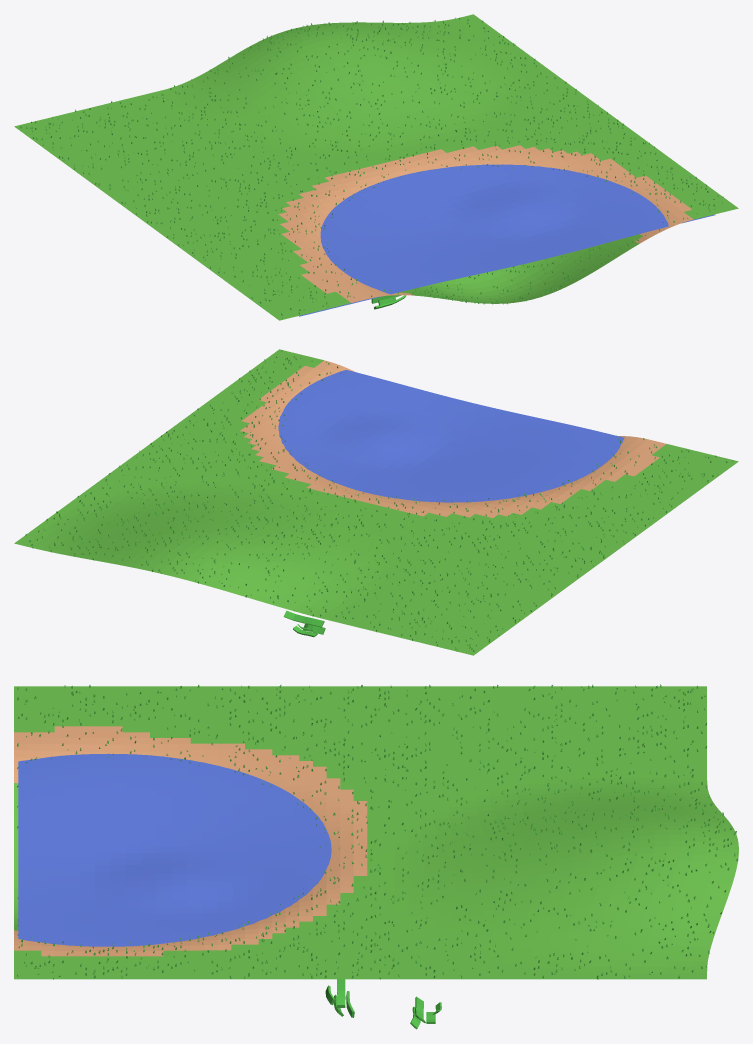
The picture shows the model from 3 angles, top to bottom: view 1: azimuth 30°, elevation 25°; view 2: azimuth 150°, elevation 25°; view 3: azimuth 270°, elevation 25°; orthographic projection. The views are drawn at different scales.
Visible parts, largest first — view 1: Plane, Plane.001; view 2: Plane, Plane.001, Cube.001; view 3: Plane, Plane.001, Cube.
Part boxes in pixels (x1,y1,x2,y2): Plane: (14,14,738,320); Plane.001: (299,164,715,316); Plane: (14,349,738,655); Plane.001: (278,370,624,502); Cube.001: (283,610,325,637); Plane: (14,686,738,979); Plane.001: (18,753,331,946); Cube: (325,979,354,1017).
Size of the model in its own units: 1622 by 536 by 1696.
